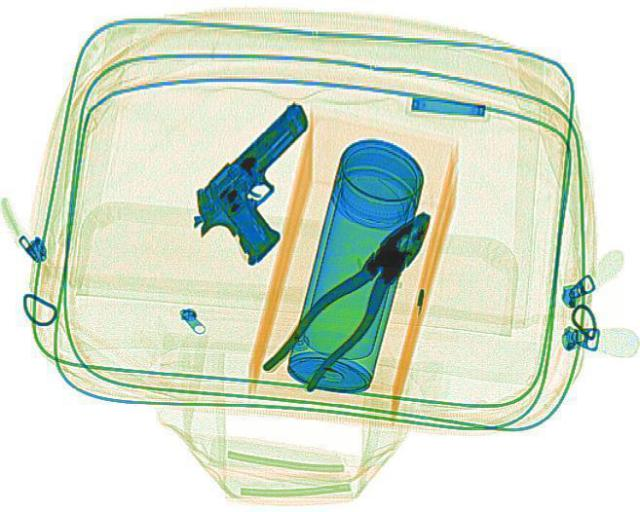Gun: (165, 98, 378, 264)
Pliers: (258, 199, 452, 393)
